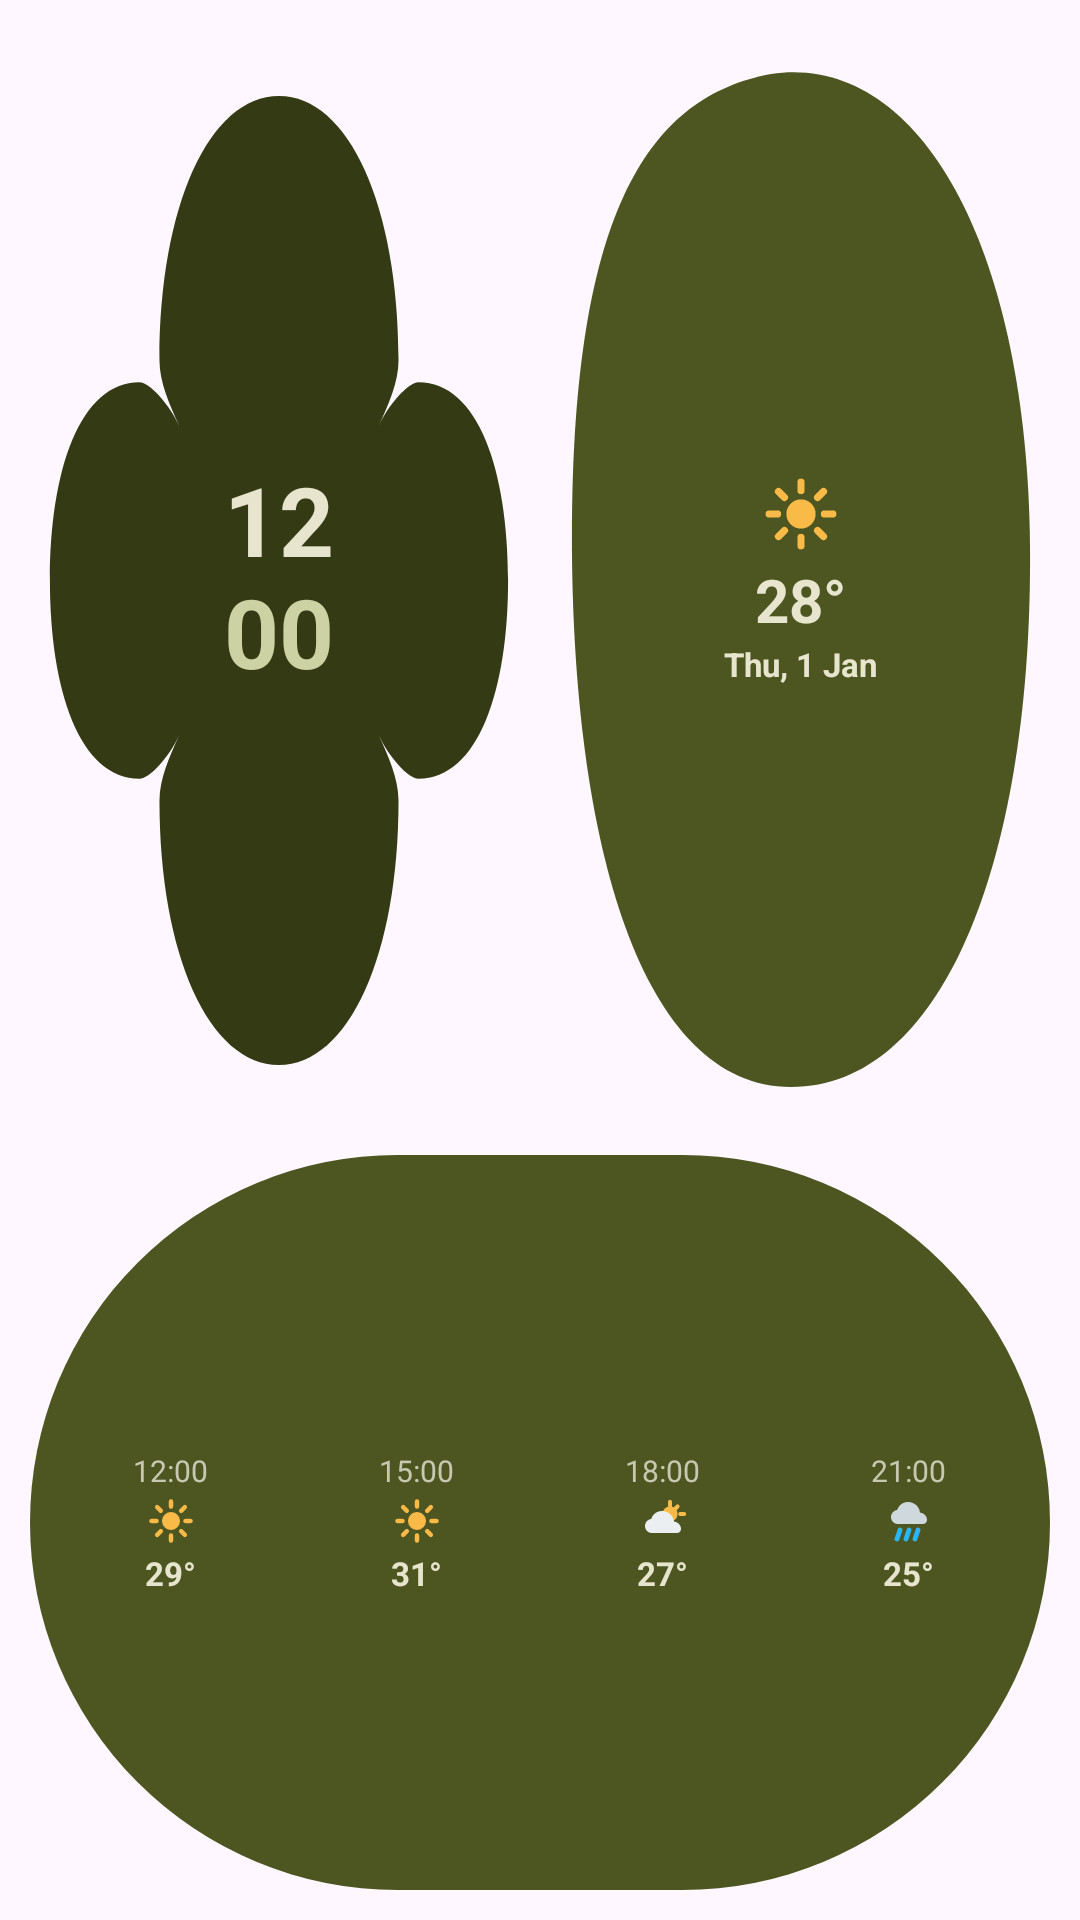

Locate icon controls on the screen. Image size 1080 × 1920, boxes as (x1, y1, x2, y2).
weather partly cloudy: (645, 1500, 686, 1533)
weather rainy: (891, 1502, 927, 1542)
weather sunny: (765, 478, 837, 550), (149, 1499, 193, 1543), (395, 1499, 439, 1543)
